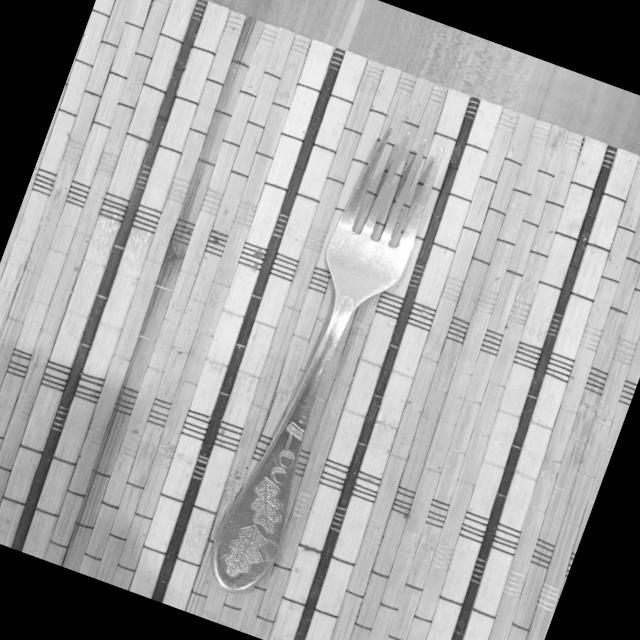fork: (199, 118, 452, 613)
